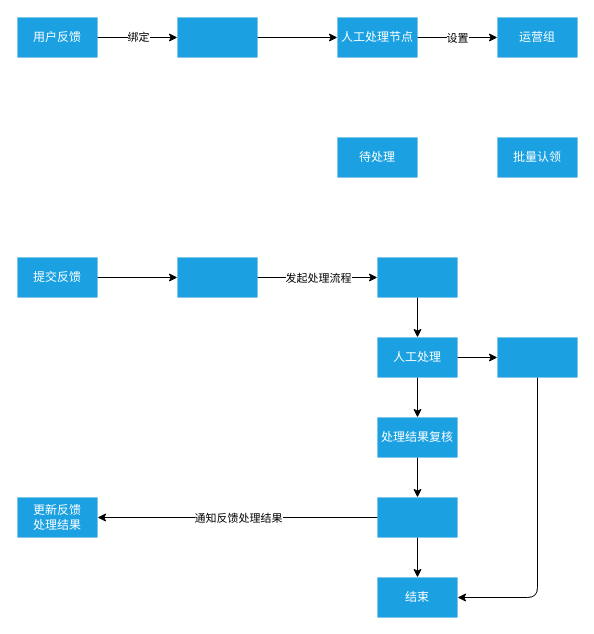
This 594x634 diagram has some shape labels left out. The shapes that lost their labels are listed below. From the top down, each one's box as (x1, y1, x2, y2) in pixels, then its label:
(177, 17, 257, 57): 反馈处理流程
(177, 257, 257, 297): 反馈预处理，过滤无效反馈
(377, 257, 457, 297): 开始
(497, 337, 577, 377): 合并反馈
(377, 497, 457, 537): 反馈处理结果
